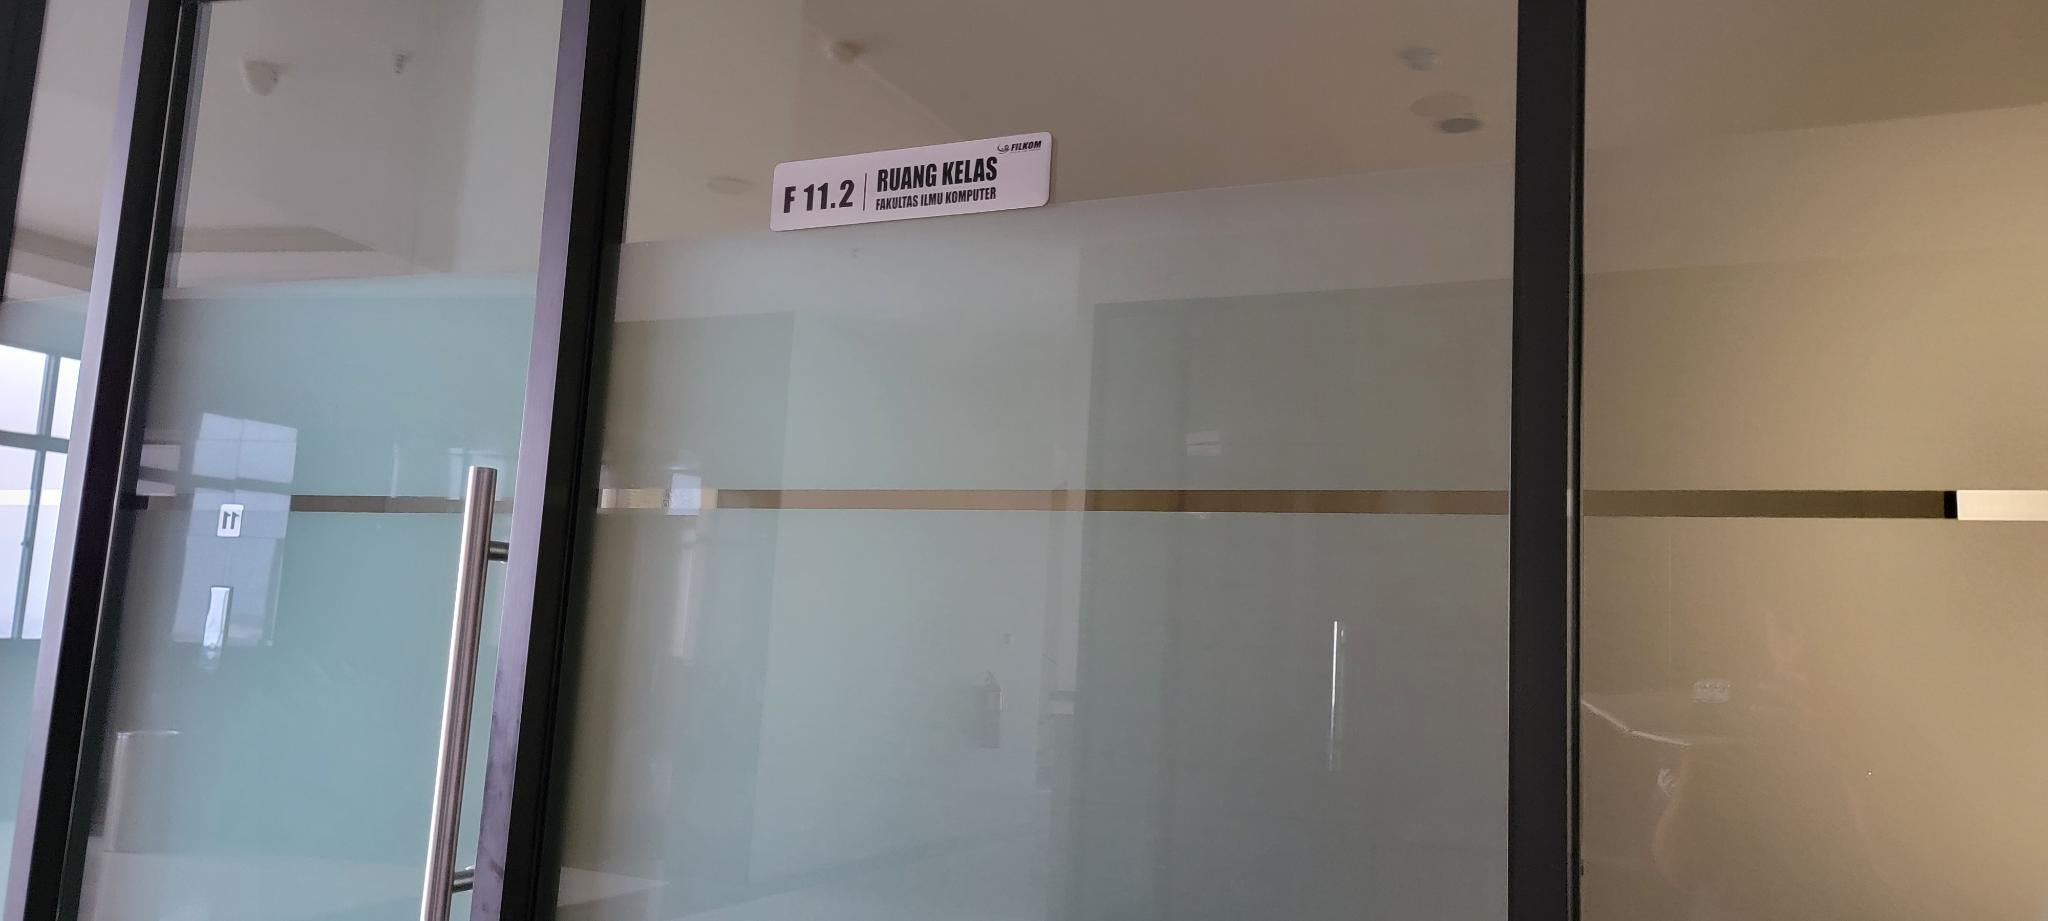plate: (769, 129, 1054, 236)
